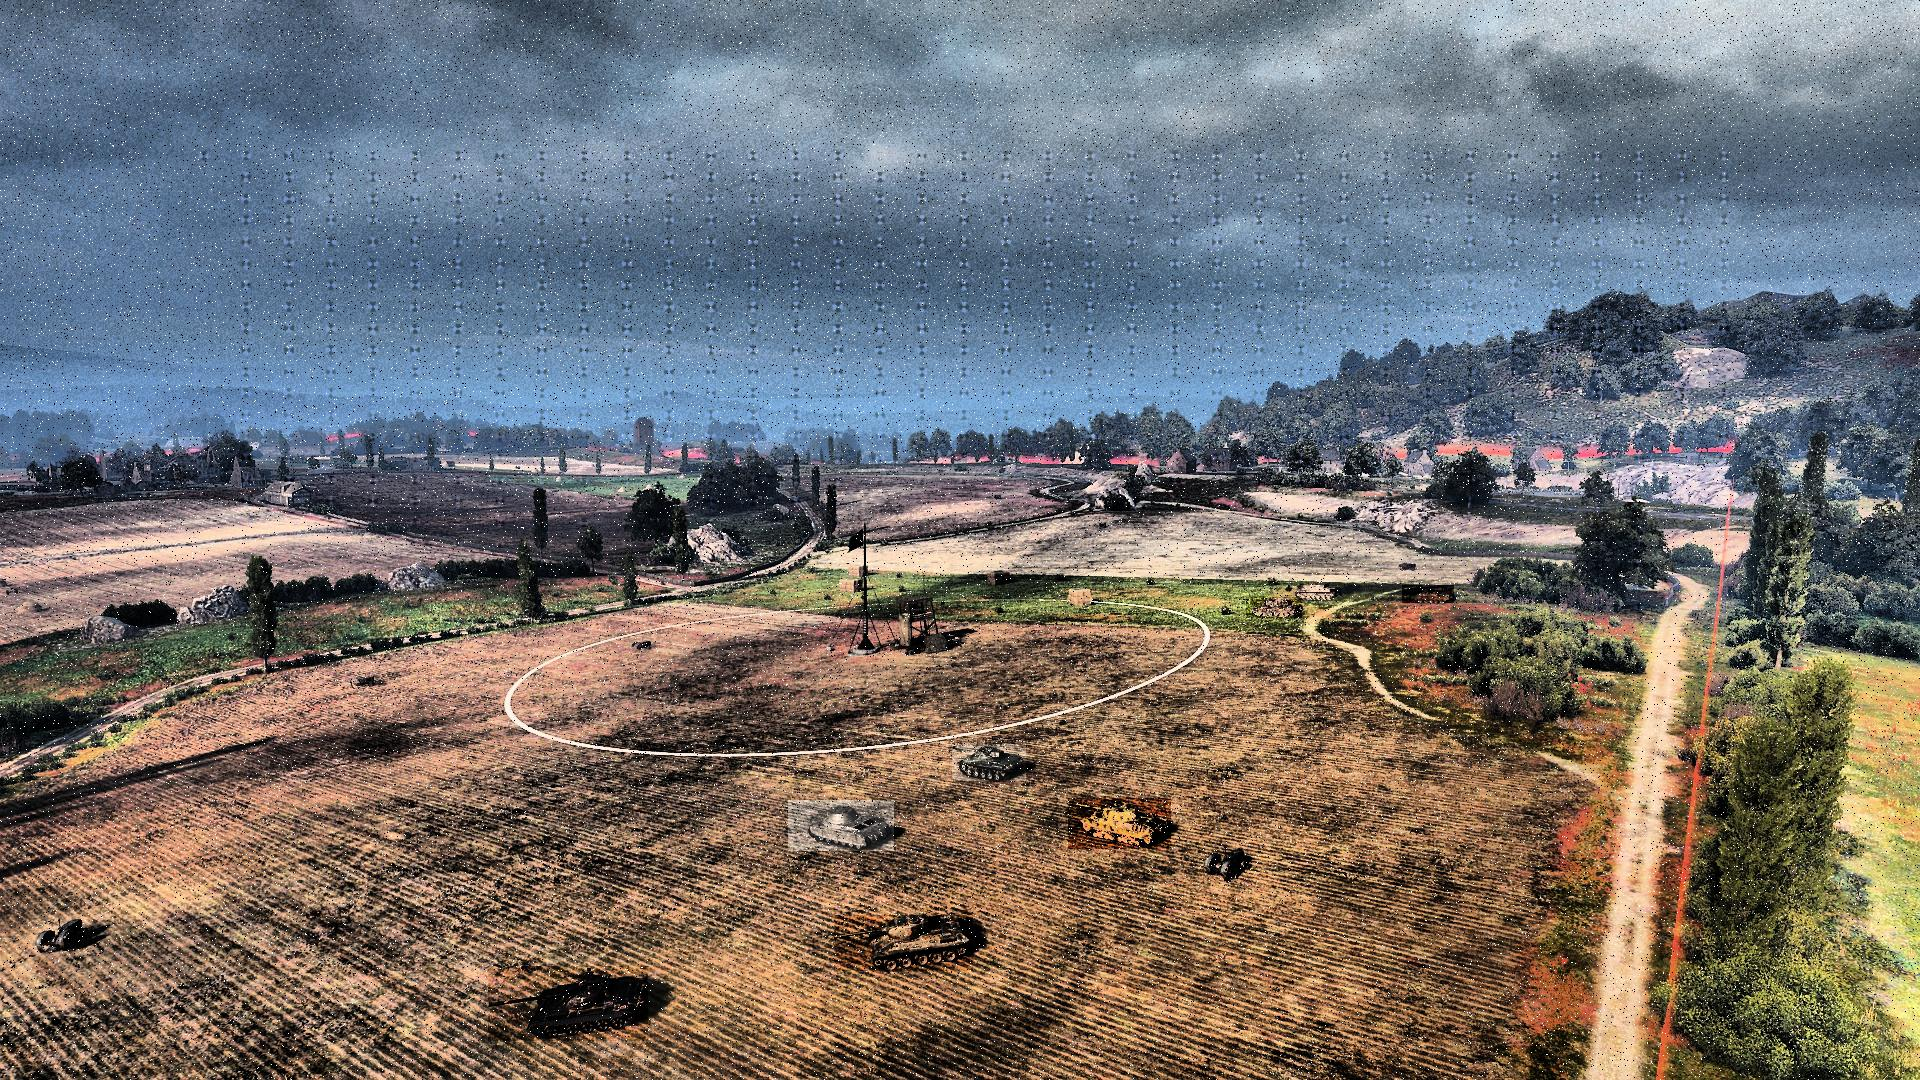military-vehicle: (488, 967, 649, 1042), (835, 915, 973, 972), (789, 800, 894, 852), (1068, 798, 1171, 849), (952, 744, 1026, 781), (1246, 597, 1302, 618), (1282, 583, 1341, 600), (1403, 585, 1455, 603)
